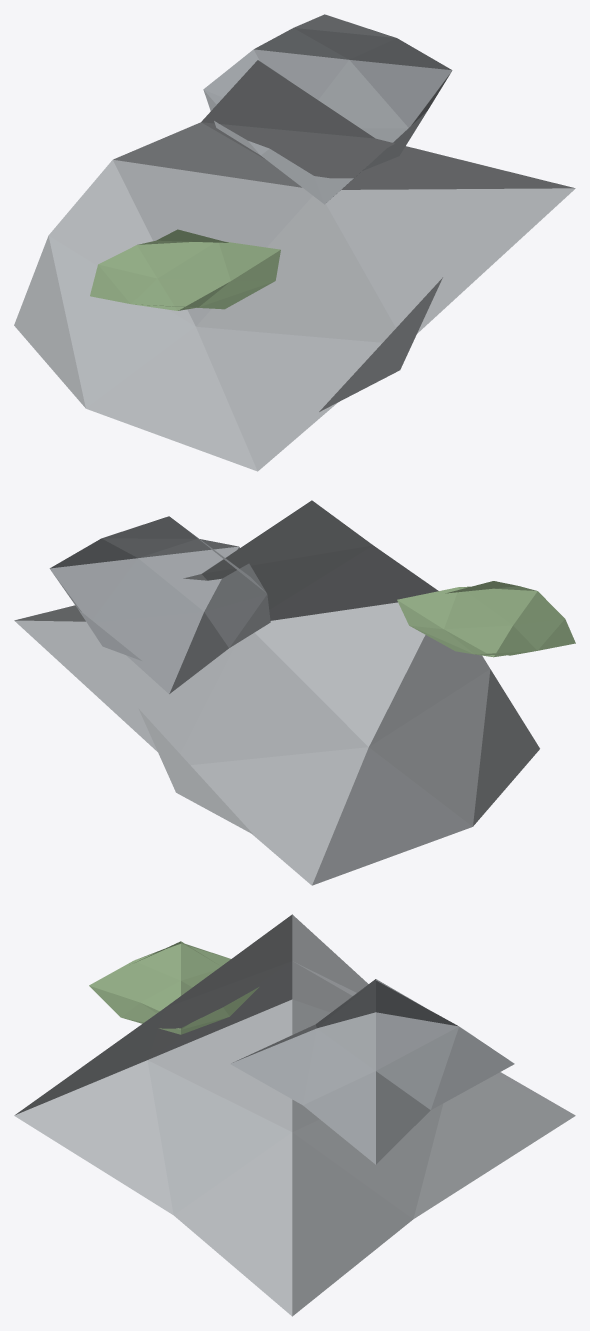
Rendered from boulder_v00.glb.
3 views of the same model, one above another, from view 1: azimuth 30°, elevation 25°; view 2: azimuth 150°, elevation 25°; view 3: azimuth 270°, elevation 25° (orthographic). The views are drawn at different scales.
Visible parts, largest first — view 1: lod0; view 2: lod0; view 3: lod0.
Part boxes in pixels (<box>): lod0: <box>14,14,575,471</box>; lod0: <box>14,500,575,885</box>; lod0: <box>14,914,575,1316</box>.
Size of what is drawn, in the model's own units: 2.05 by 1.44 by 1.82.
